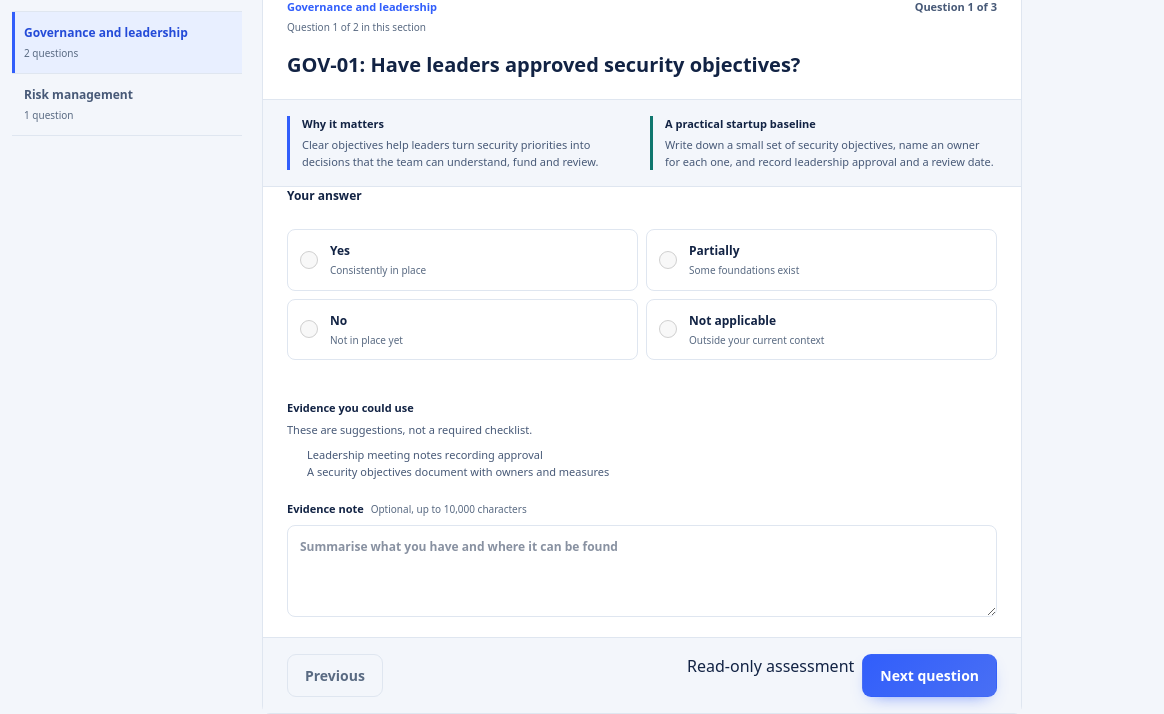
AssessmentResponseList guided flow › lets a read-only Member browse answers without changing or saving them
This screenshot has width=1164, height=714.
(page scrolled)
Check: the radio button labelled "Yes" is disabled, box [300,251,318,269]
Click the button "Next question".
click(930, 676)  # box [862,654,997,697]
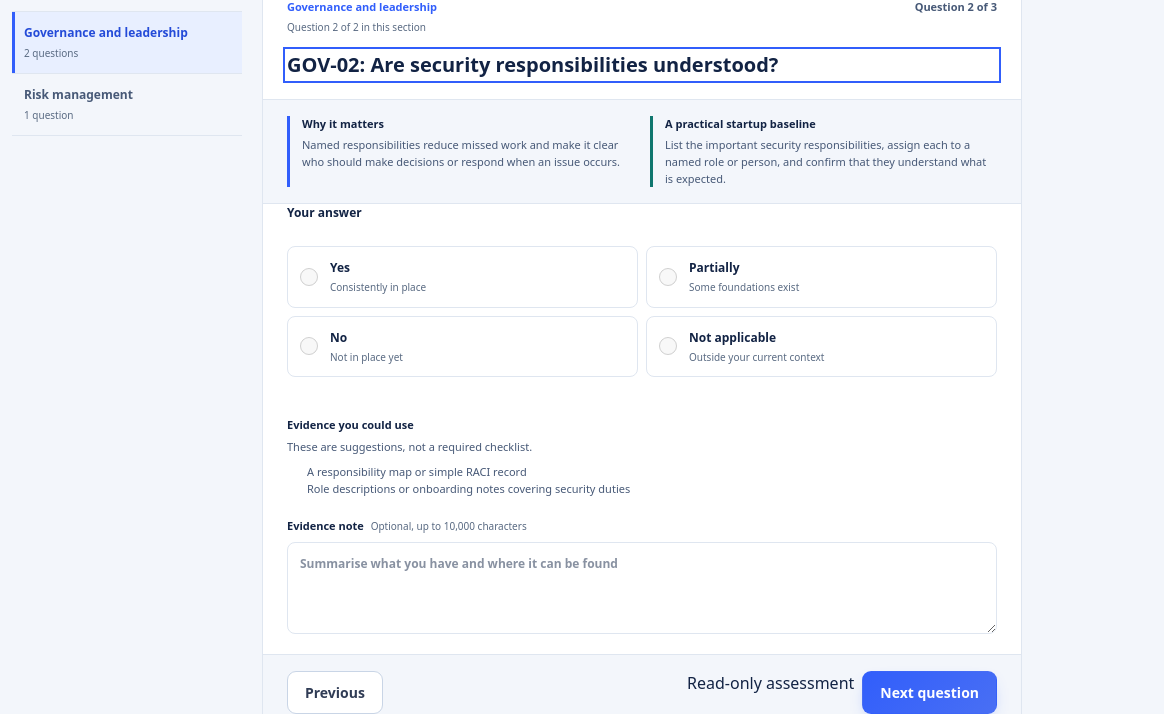
Check: the heading "GOV-02: Are security responsibilities understood?" is shown, box [287,50,997,78]
